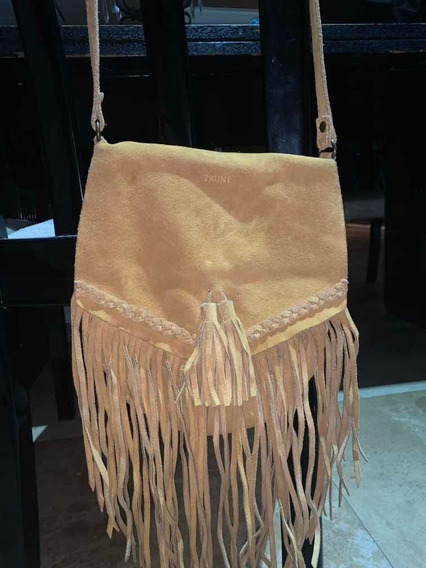cartera: (65, 5, 353, 442)
